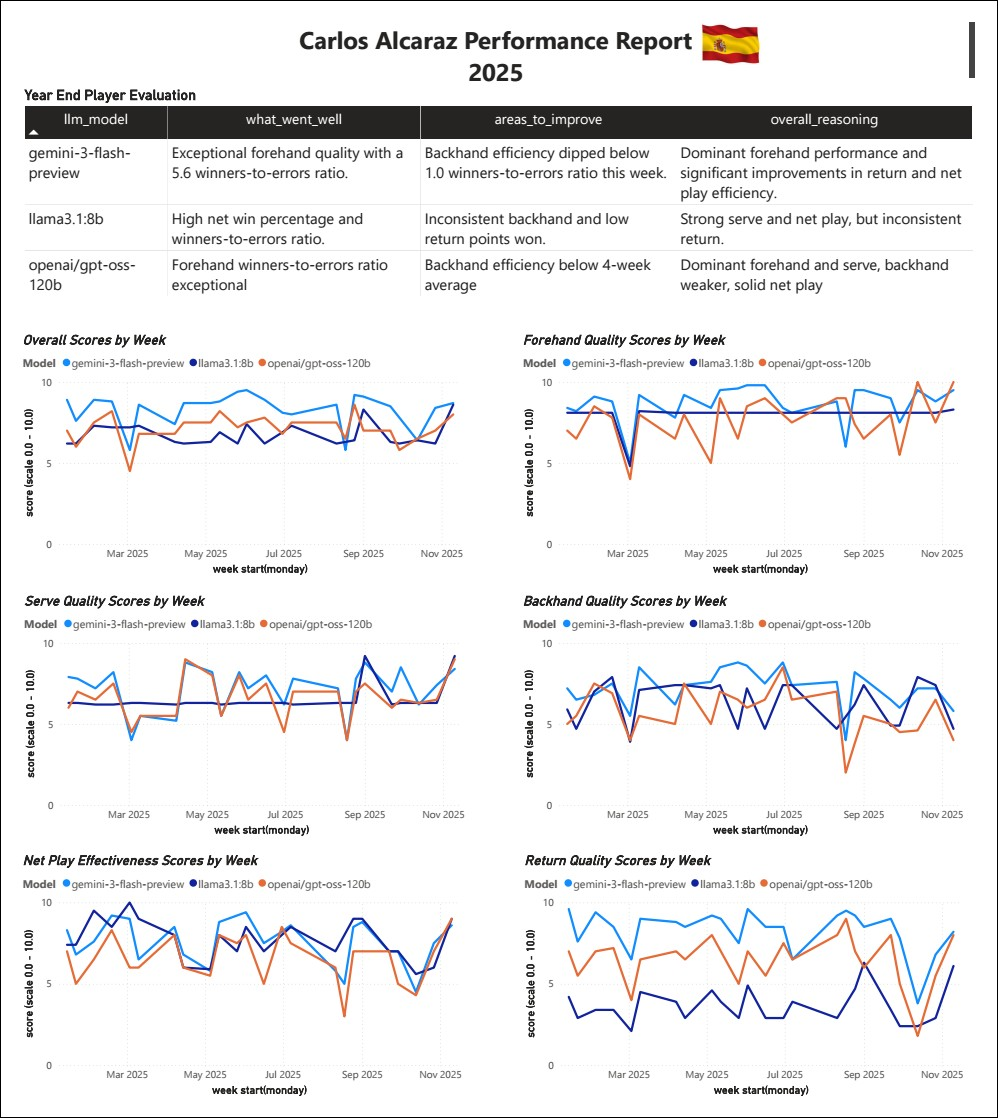

The dashboard page shown, as its layout file describes it:
{"tool":"powerbi","page":{"name":"Page 1","canvas":[1280,1440],"ordinal":0},"visuals":[{"type":"actionButton","box":[0,0,100,40],"z":0},{"type":"lineChart","title":"Forehand Quality Scores by Week","fields":{"Y":["Avg(tennis vw_player_scores_weekly_trend.forehand_quality_score)"],"Series":["tennis vw_player_scores_weekly_trend.llm_model"],"Category":["tennis vw_player_scores_weekly_trend.week_start"]},"box":[666.7,416.7,613,329.6],"z":1000},{"type":"lineChart","title":"Backhand Quality Scores by Week","fields":{"Series":["tennis vw_player_scores_weekly_trend.llm_model"],"Category":["tennis vw_player_scores_weekly_trend.week_start"],"Y":["Avg(tennis vw_player_scores_weekly_trend.backhand_quality_score)"]},"box":[666.7,764.8,613,329.6],"z":2000},{"type":"lineChart","title":"Serve Quality Scores by Week","fields":{"Series":["tennis vw_player_scores_weekly_trend.llm_model"],"Category":["tennis vw_player_scores_weekly_trend.week_start"],"Y":["Avg(tennis vw_player_scores_weekly_trend.serve_quality_score)"]},"box":[1.9,764.8,613,329.6],"z":3000},{"type":"lineChart","title":"Net Play Effectiveness Scores by Week","fields":{"Series":["tennis vw_player_scores_weekly_trend.llm_model"],"Category":["tennis vw_player_scores_weekly_trend.week_start"],"Y":["Avg(tennis vw_player_scores_weekly_trend.net_play_effectiveness_score)"]},"box":[0,1111.1,611.1,329.6],"z":4000},{"type":"lineChart","title":"Return Quality Scores by Week","fields":{"Series":["tennis vw_player_scores_weekly_trend.llm_model"],"Category":["tennis vw_player_scores_weekly_trend.week_start"],"Y":["Avg(tennis vw_player_scores_weekly_trend.return_quality_score)"]},"box":[668.5,1111.1,611.1,329.6],"z":5000},{"type":"lineChart","title":"Overall Scores by Week","fields":{"Series":["tennis vw_player_scores_weekly_trend.llm_model"],"Category":["tennis vw_player_scores_weekly_trend.week_start"],"Y":["Avg(tennis vw_player_scores_weekly_trend.overall_score)"]},"box":[0,416.7,613,329.6],"z":6000},{"type":"textbox","box":[0,0,1279.6,89.8],"z":7000},{"type":"image","box":[898,0,100,67.3],"z":8000},{"type":"tableEx","title":"Year End Player Evaluation","fields":{"Values":["tennis vw_model_year_end_evaluation.llm_model","tennis vw_model_year_end_evaluation.what_went_well","tennis vw_model_year_end_evaluation.areas_to_improve","tennis vw_model_year_end_evaluation.overall_reasoning"]},"box":[2,89.8,1277.6,310.2],"z":9000}]}

Visuals, with their boxes in screenshot pixels (x1, y1, x2, y2), scaled from the page's 1280x1440 canvas onto the 998x1118 screenshot:
actionButton: Rect(0, 0, 78, 31)
"Forehand Quality Scores by Week" lineChart: Rect(520, 324, 997, 579)
"Backhand Quality Scores by Week" lineChart: Rect(520, 594, 997, 850)
"Serve Quality Scores by Week" lineChart: Rect(1, 594, 479, 850)
"Net Play Effectiveness Scores by Week" lineChart: Rect(0, 863, 476, 1117)
"Return Quality Scores by Week" lineChart: Rect(521, 863, 997, 1117)
"Overall Scores by Week" lineChart: Rect(0, 324, 478, 579)
textbox: Rect(0, 0, 997, 70)
image: Rect(700, 0, 778, 52)
"Year End Player Evaluation" tableEx: Rect(2, 70, 997, 311)
